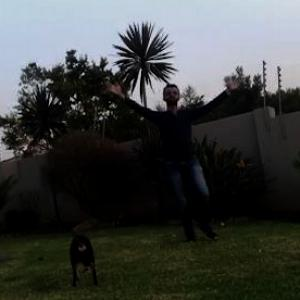takeoff: (116, 85, 235, 229)
